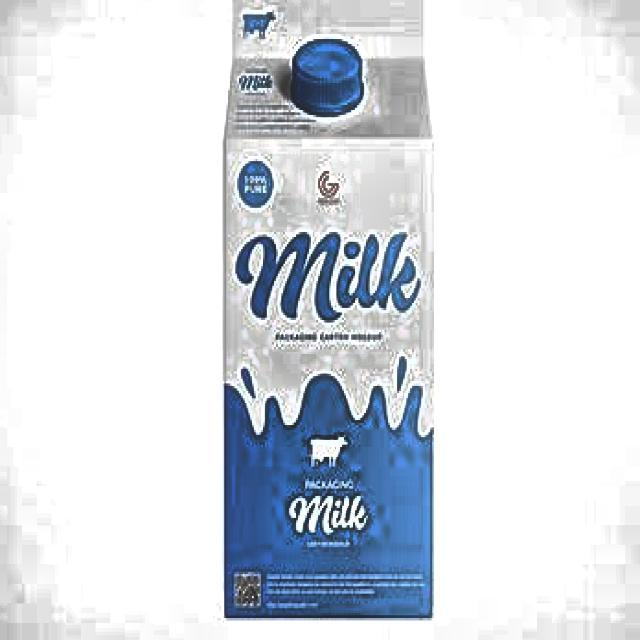cardboard: (220, 0, 434, 618)
